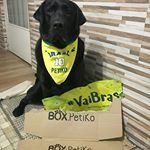puppy: (16, 1, 103, 121)
